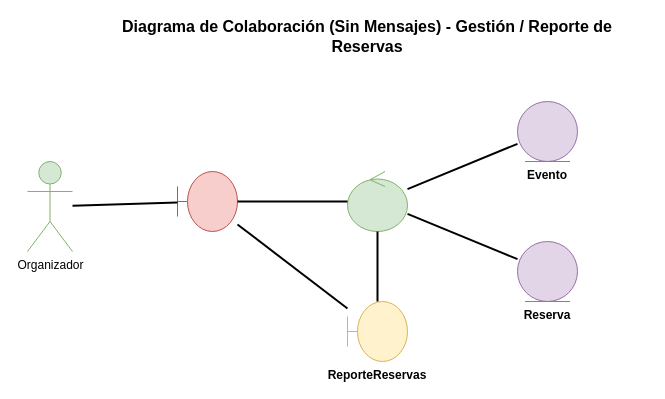
The diagram is 665 pixels wide and 399 high, and some of its shapes have lost their labels. The box of each missing label's shape, as (x1, y1, x2, y2) in pixels:
GestionReserva: (346, 170, 408, 232)
PantallaEventos: (176, 170, 238, 232)
